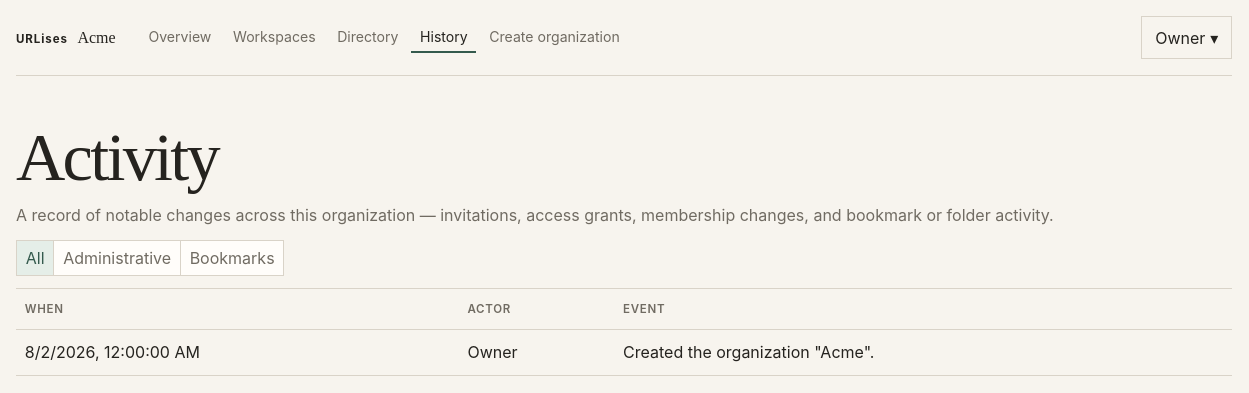
Test: activity page › switching category refetches with the new category and drops the previous category's rows
Expected: the text "Created the organization \"Acme\"." is shown, top-left (614, 329), bottom-right (1232, 376)
Click the button "Bookmarks": click(233, 258) top-left (181, 240), bottom-right (284, 276)
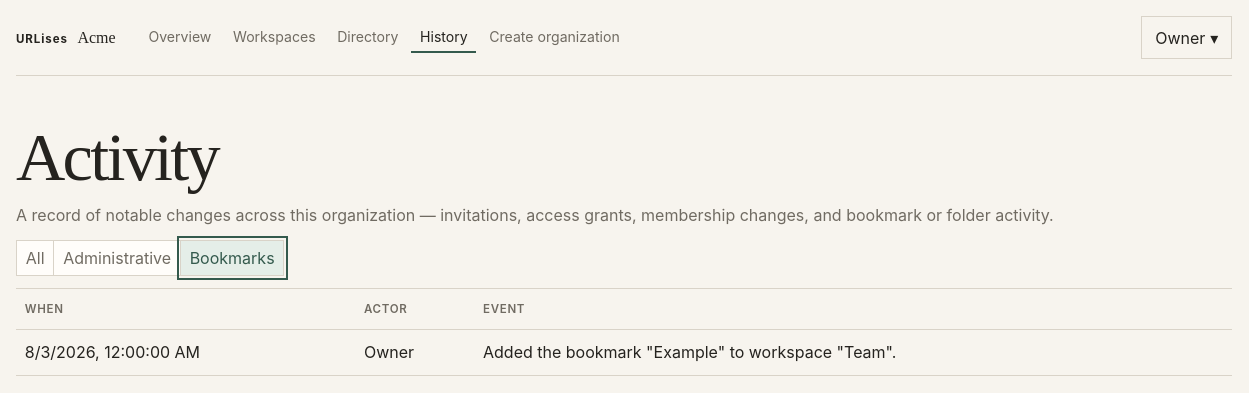
Expected: the text "Added the bookmark \"Example\" to workspace \"Team\"." is shown, top-left (474, 329), bottom-right (1232, 376)
Expected: the text "Created the organization \"Acme\"" is gone
